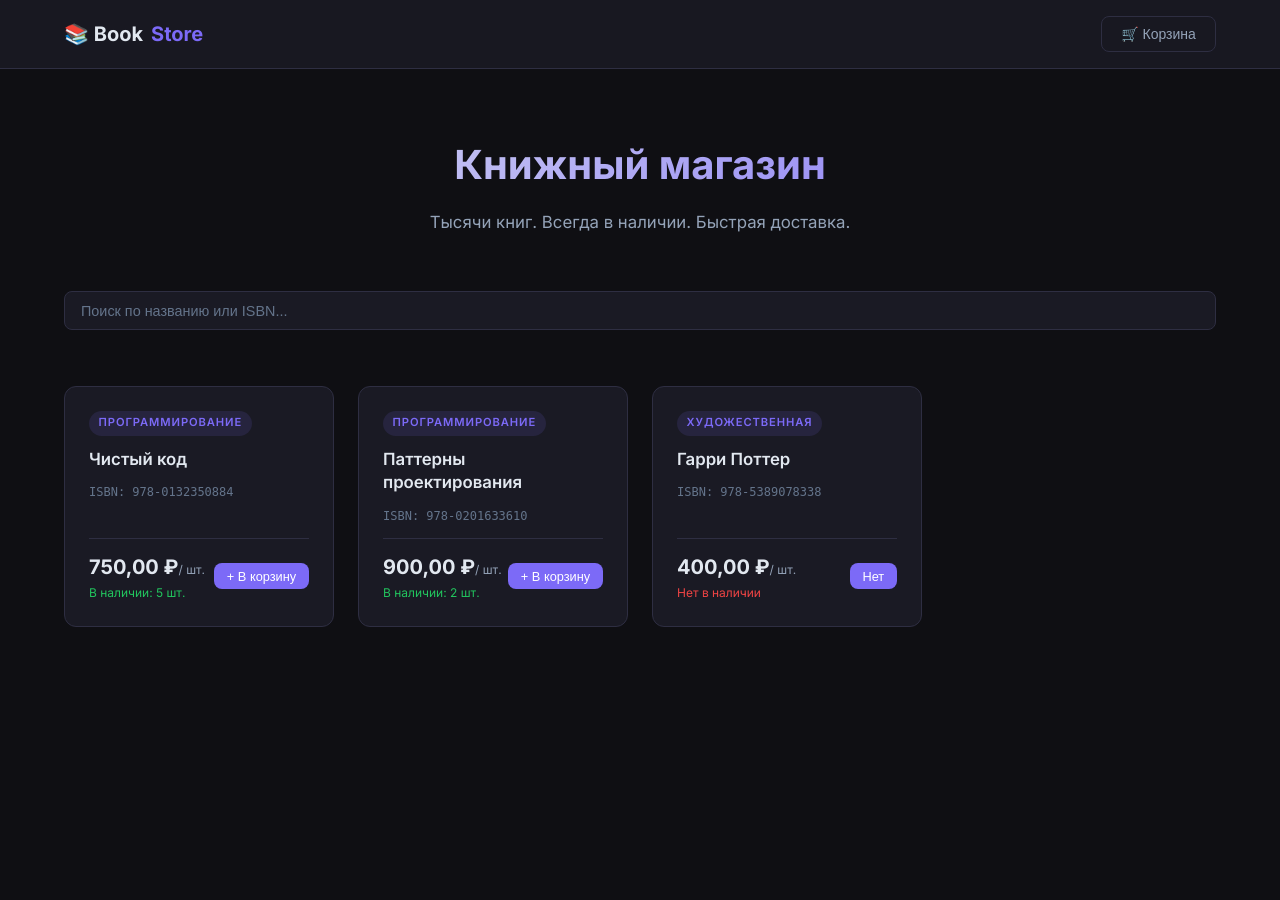
Test: BookList — корзина › добавление одной книги дважды увеличивает количество
This screenshot has width=1280, height=900.
Expected: the element with test id "books-grid" is shown, [64,386,922,627]
Step 1. Click the button with test id "add-to-cart-btn" in the row of "В наличии: 5 шт." → (262, 576), box [214,563,309,590]
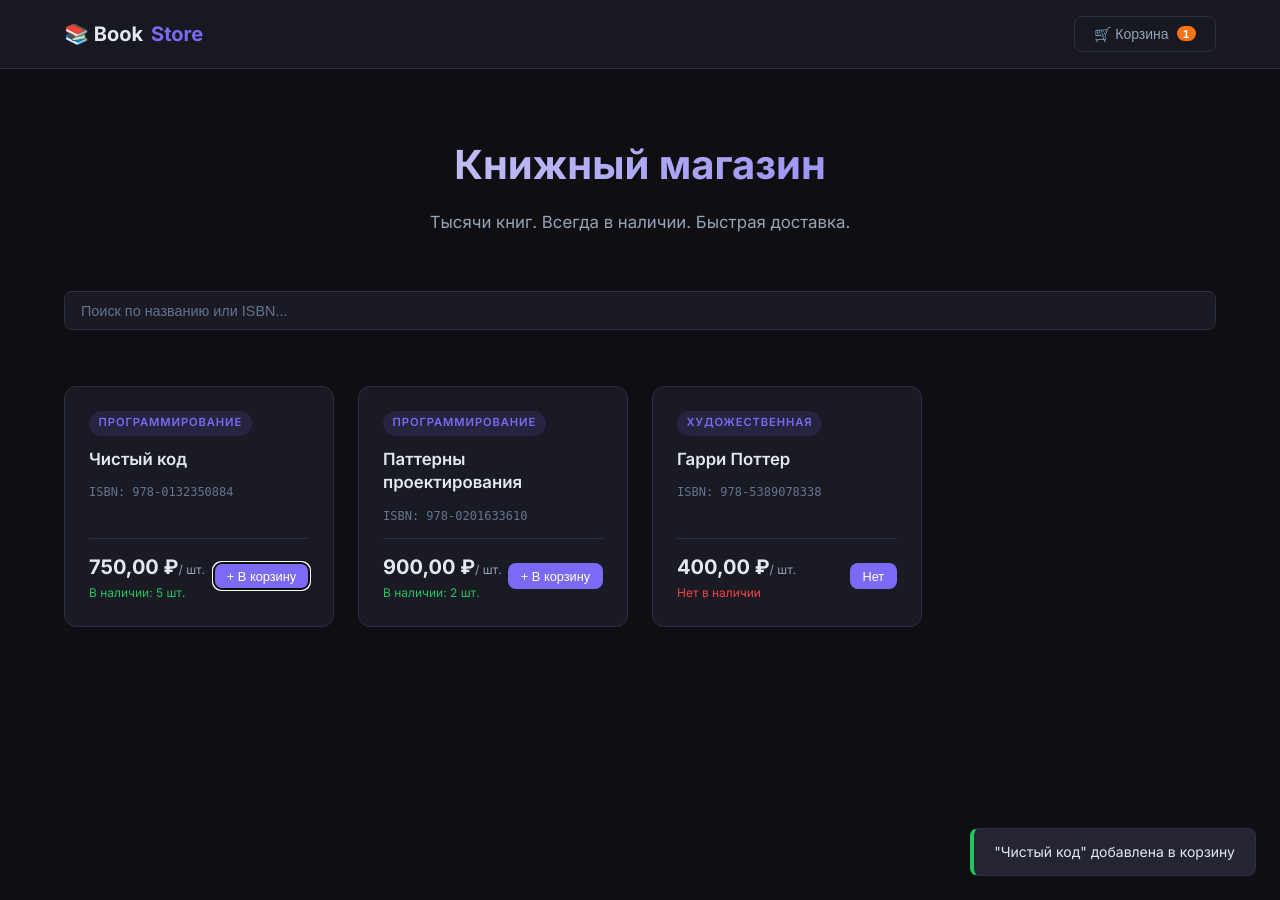
Step 2. Click the button with test id "add-to-cart-btn" in the row of "В наличии: 5 шт." → (262, 576), box [214,563,309,590]
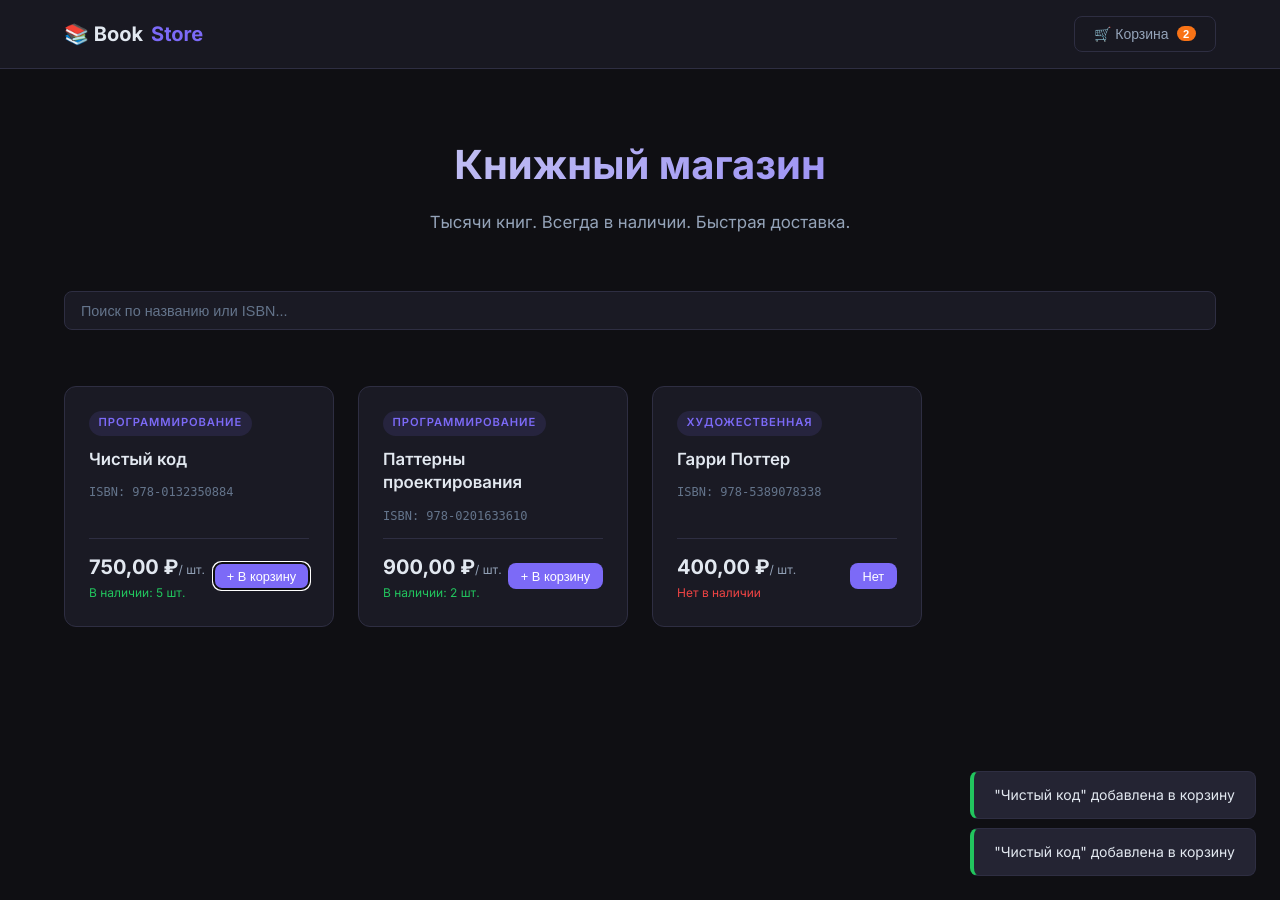
Expected: the text with test id "cart-count" reads "2", [1183,28,1189,40]
